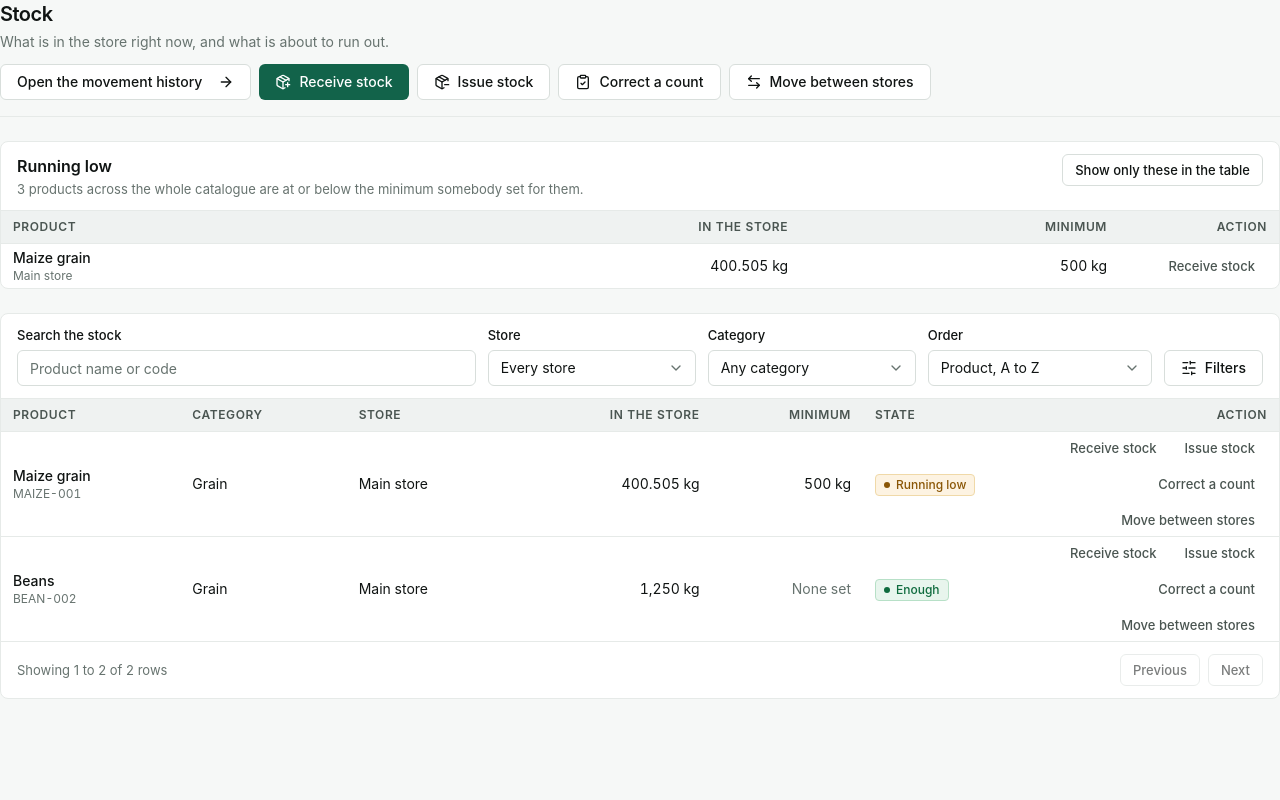
Test: issuing stock › reports a refusal for too little stock by reading the level again, not by quoting one back
The image size is (1280, 800).
Expected: the 1st text "400.505 kg" is shown, [710,257,788,274]
Click the 2nd button "Issue stock": (1220,448) [1173,432,1267,464]
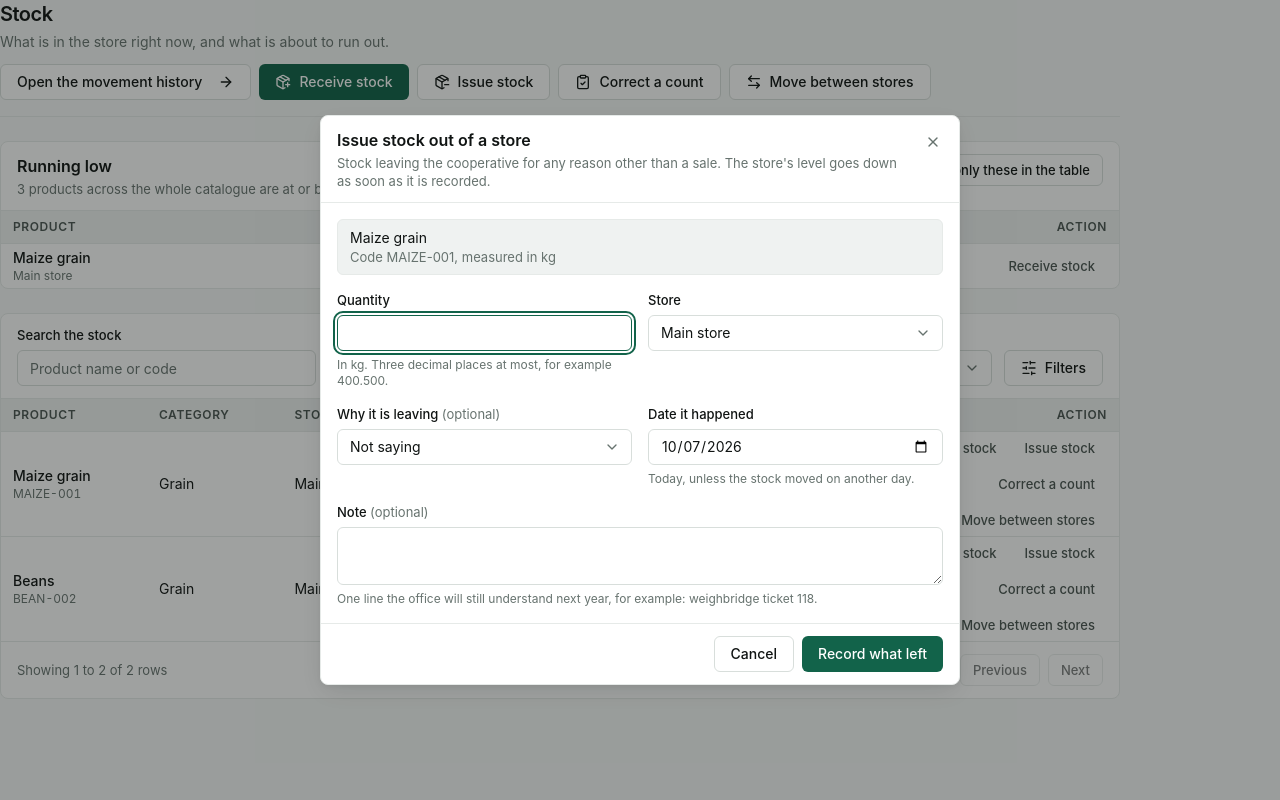
Expected: the dialog is shown, [320,115,960,685]
In the field labelled "Quantity": (484,333) [337,315,632,351], type "50"
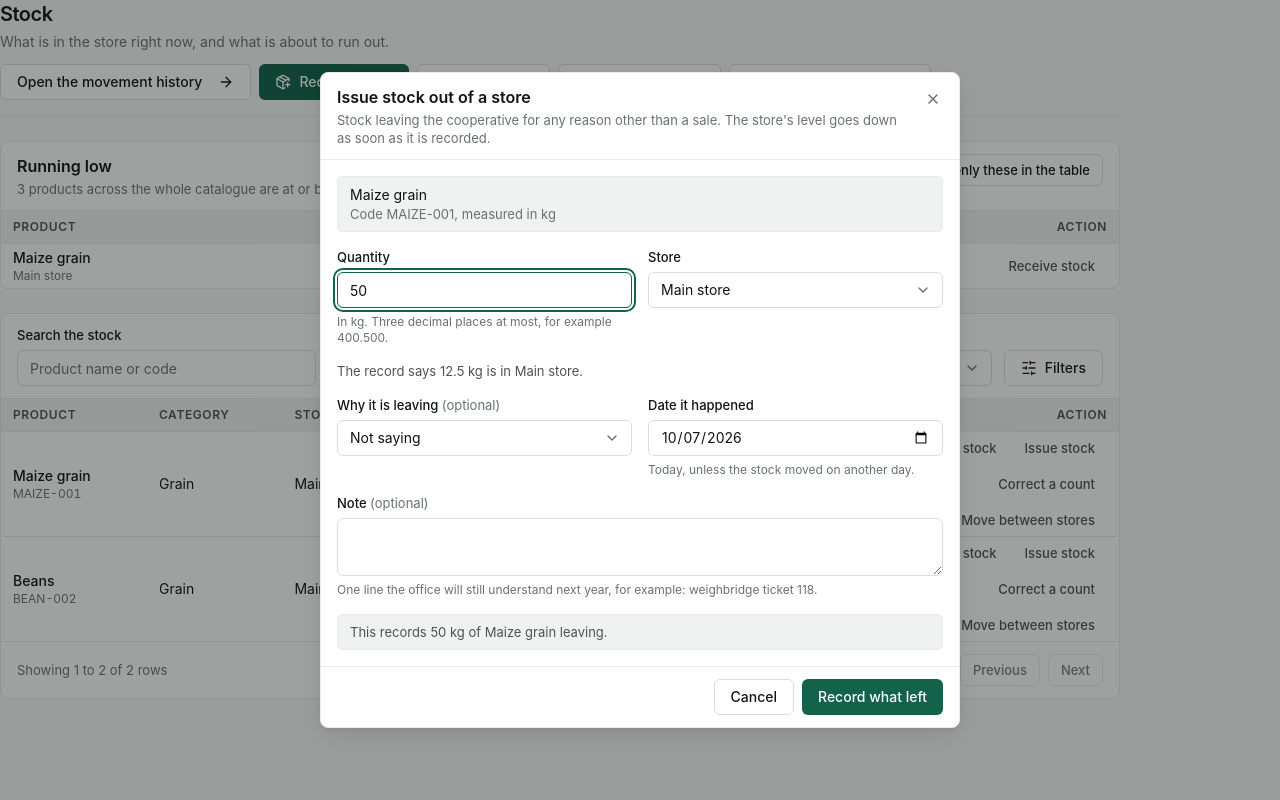
Submit the form with id "issue-stock-form", box [337,176,943,650]
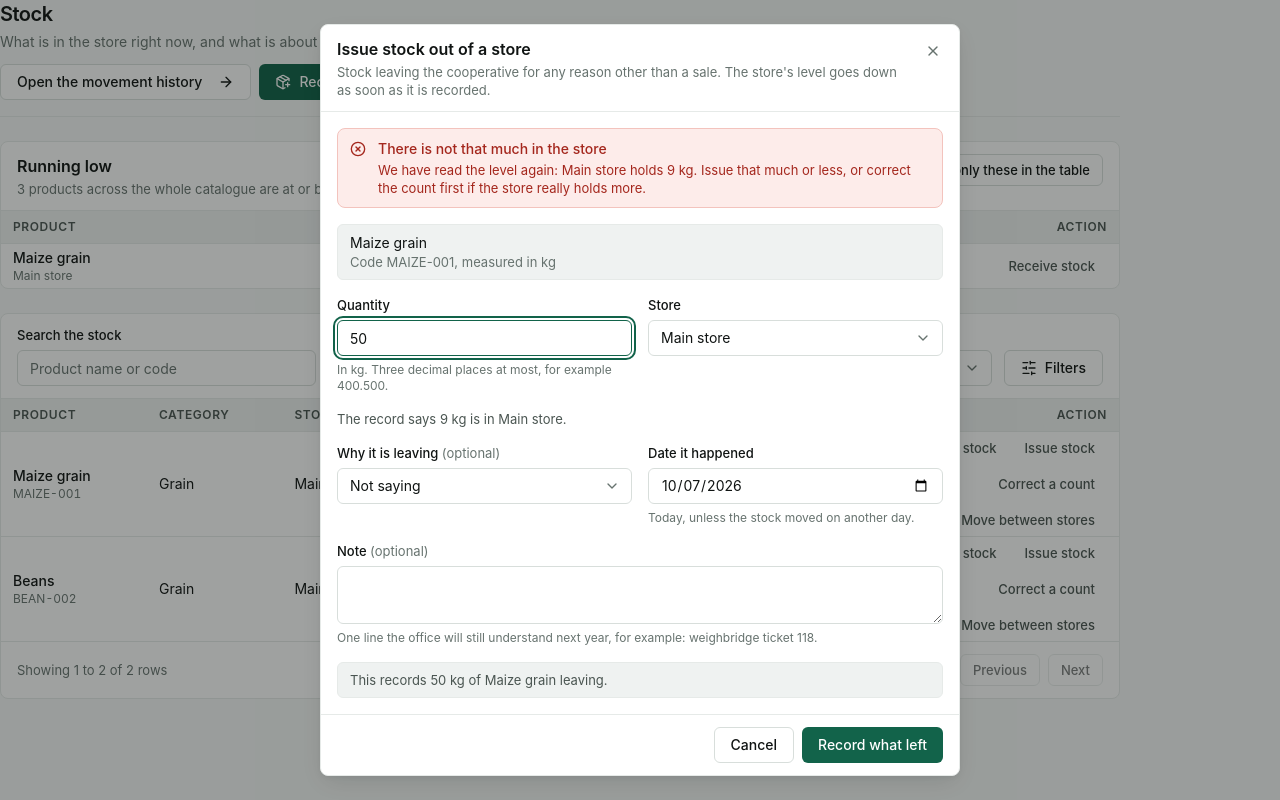
Expected: the text "There is not that much in the store" is shown, [378,140,607,157]
Expected: the text "Main store holds 9 kg" is shown, [378,162,911,196]
Press Escape
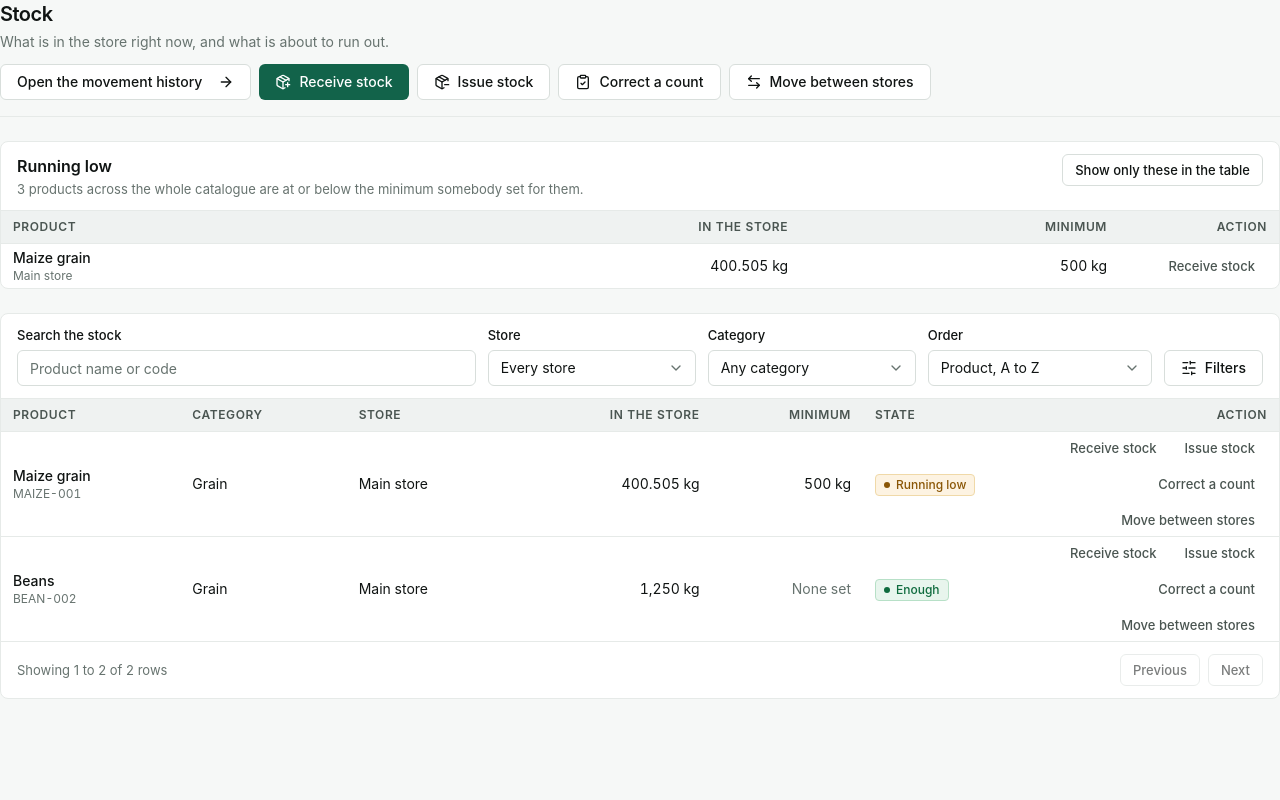
Expected: the dialog is gone
